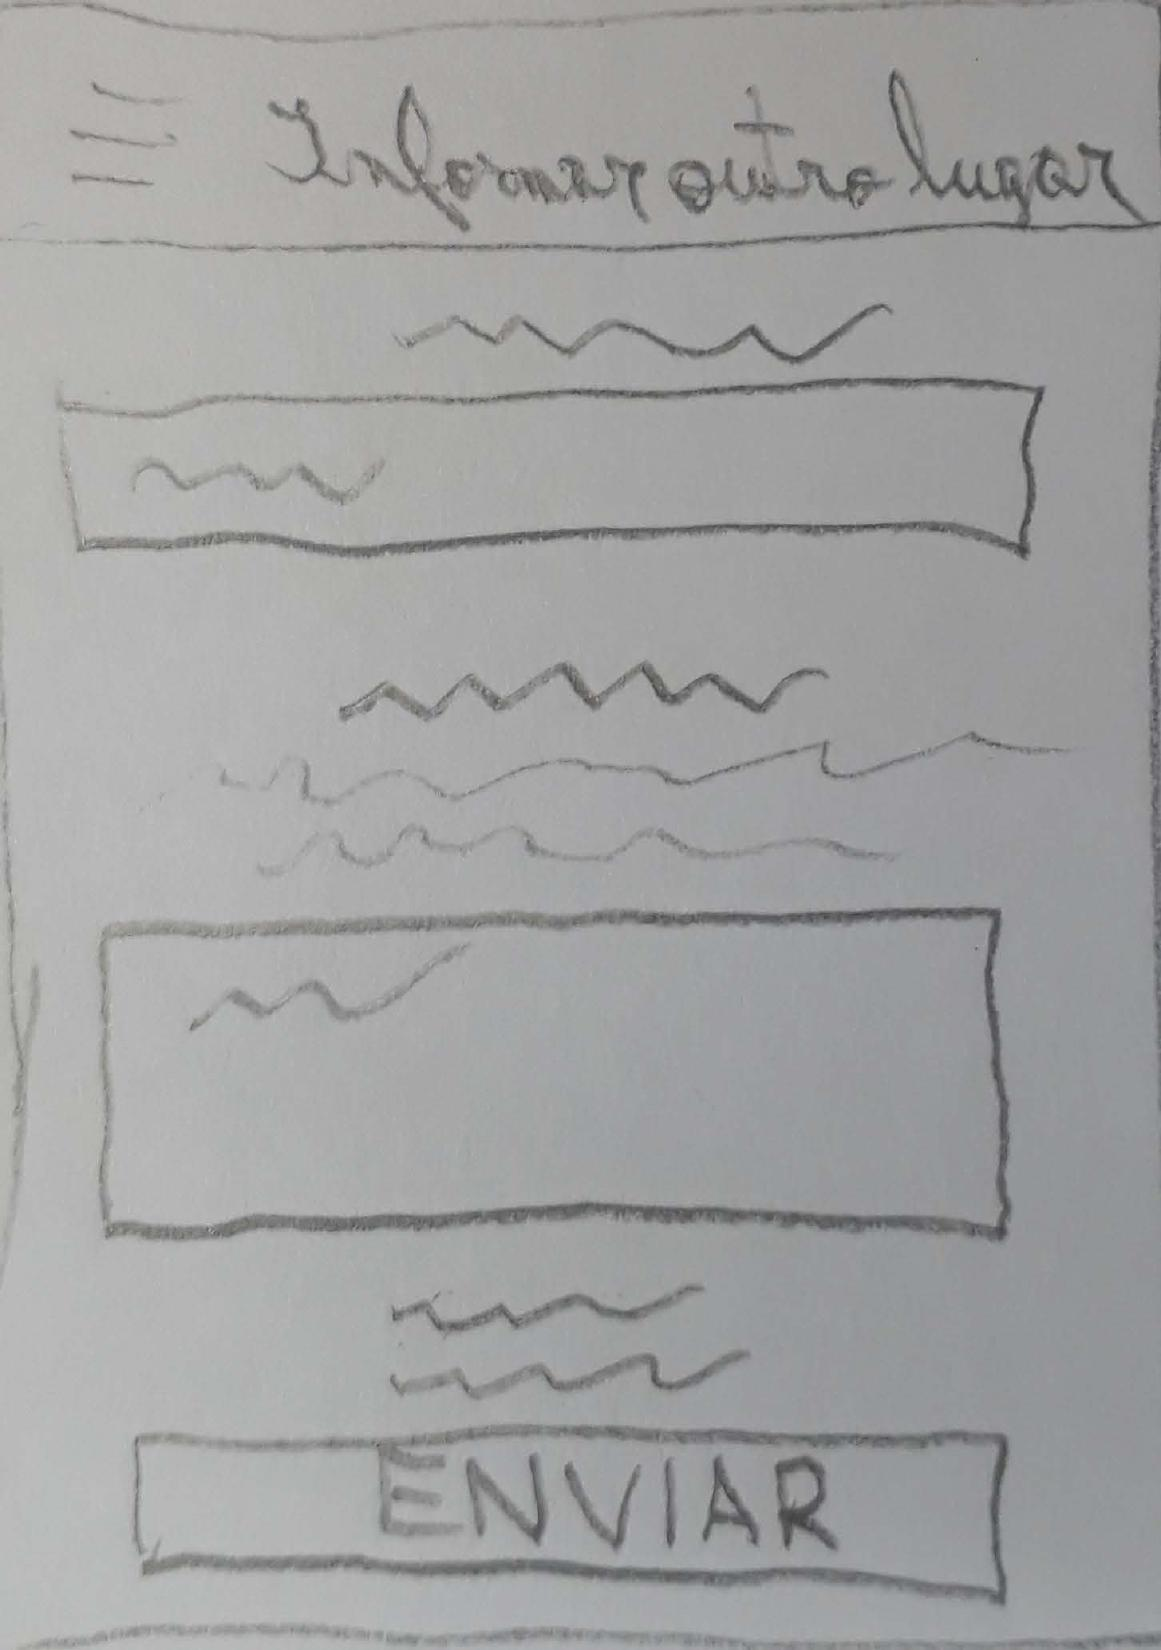Button: (131, 1425, 1008, 1606), (60, 82, 182, 192)
Label: (266, 70, 1150, 224), (217, 733, 1082, 880), (388, 1282, 751, 1400), (393, 302, 898, 364), (342, 661, 834, 719)
Screen: (1, 3, 1158, 1649)
TextBox: (93, 912, 1013, 1240), (54, 376, 1045, 559)
